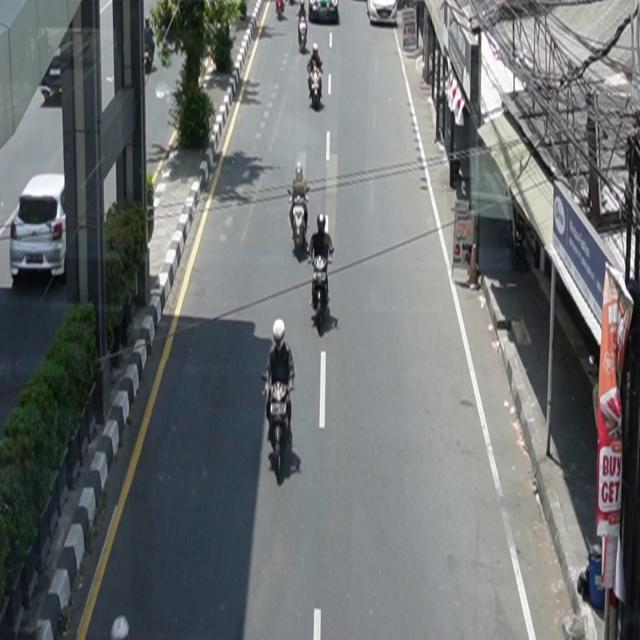car: (11, 173, 68, 282), (367, 1, 398, 26)
